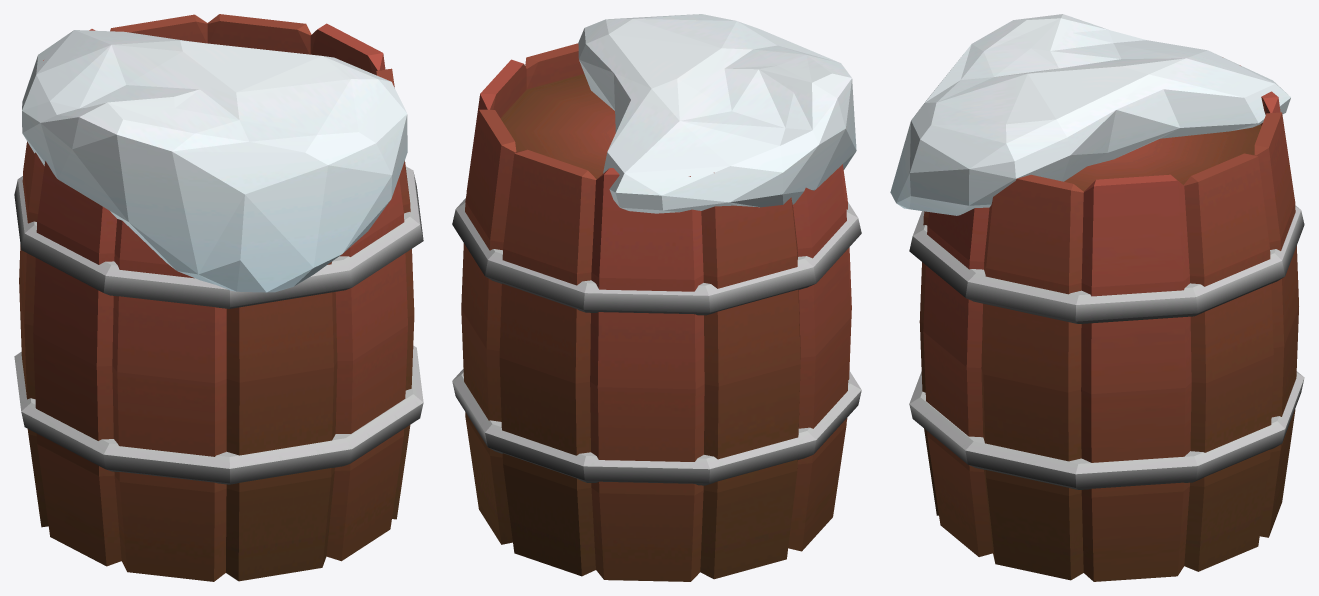
3 views of the same model, side by side, from view 1: azimuth 30°, elevation 25°; view 2: azimuth 150°, elevation 25°; view 3: azimuth 270°, elevation 25° (orthographic). The views are drawn at different scales.
Visible parts, largest first — view 1: SnowyBarrel1; view 2: SnowyBarrel1; view 3: SnowyBarrel1.
Boxes of the visible parts, x1,y1,x2,y2 form: SnowyBarrel1: (14, 14, 423, 581); SnowyBarrel1: (452, 14, 861, 581); SnowyBarrel1: (890, 14, 1304, 581).
Bounding box in the file's own units: 1.09 × 1.31 × 1.15.
Materials: 1 (1 with a texture image).
